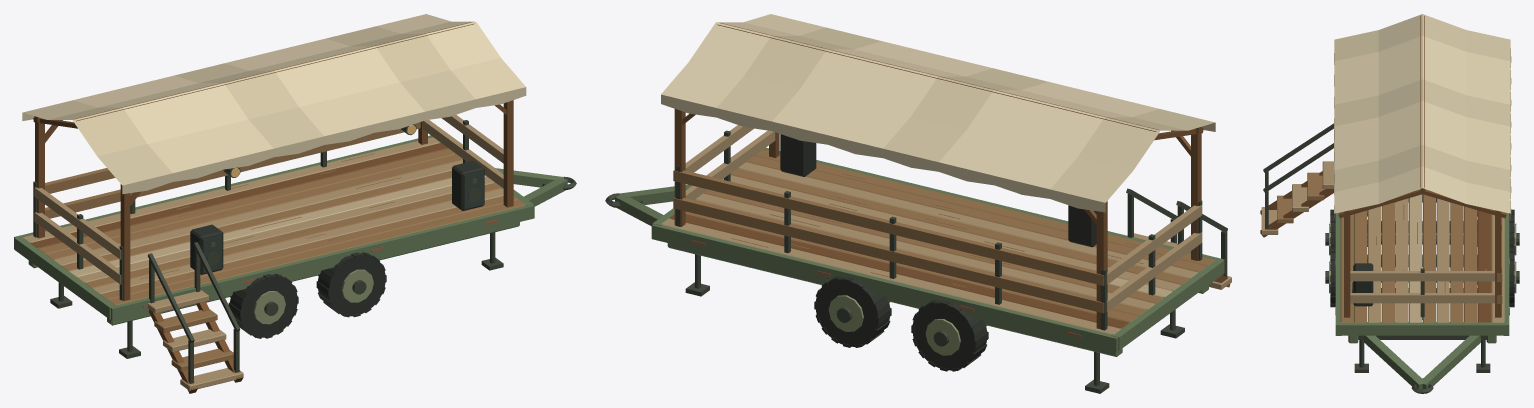
The model's file is lwf_trailer_stage_v1.glb.
3 renders of one model, left to right at view 1: azimuth 30°, elevation 25°; view 2: azimuth 150°, elevation 25°; view 3: azimuth 270°, elevation 25°, orthographic. The views are drawn at different scales.
Visible parts, largest first — view 1: LWF_TrailerStage_Base, LWF_TrailerStage_Canopy, LWF_TrailerStage_Rails, LWF_TrailerStage_Access, LWF_TrailerStage_Fittings; view 2: LWF_TrailerStage_Canopy, LWF_TrailerStage_Base, LWF_TrailerStage_Rails, LWF_TrailerStage_Fittings, LWF_TrailerStage_Access; view 3: LWF_TrailerStage_Canopy, LWF_TrailerStage_Base, LWF_TrailerStage_Rails, LWF_TrailerStage_Access, LWF_TrailerStage_Fittings.
Part boxes in pixels (bbox=[...]): LWF_TrailerStage_Base: bbox=[14, 135, 576, 358]; LWF_TrailerStage_Canopy: bbox=[22, 14, 526, 300]; LWF_TrailerStage_Rails: bbox=[33, 115, 503, 300]; LWF_TrailerStage_Access: bbox=[147, 242, 243, 393]; LWF_TrailerStage_Fittings: bbox=[190, 124, 484, 274]; LWF_TrailerStage_Canopy: bbox=[661, 14, 1215, 329]; LWF_TrailerStage_Base: bbox=[605, 147, 1224, 393]; LWF_TrailerStage_Rails: bbox=[673, 125, 1202, 330]; LWF_TrailerStage_Fittings: bbox=[780, 134, 1096, 247]; LWF_TrailerStage_Access: bbox=[1126, 188, 1231, 289]; LWF_TrailerStage_Canopy: bbox=[1334, 14, 1511, 317]; LWF_TrailerStage_Base: bbox=[1325, 189, 1519, 393]; LWF_TrailerStage_Rails: bbox=[1350, 211, 1502, 320]; LWF_TrailerStage_Access: bbox=[1260, 123, 1334, 237]; LWF_TrailerStage_Fittings: bbox=[1352, 263, 1373, 306].
Size of the model in its own units: 9.91 by 3.97 by 4.91.
Materials: 1 (1 with a texture image).
